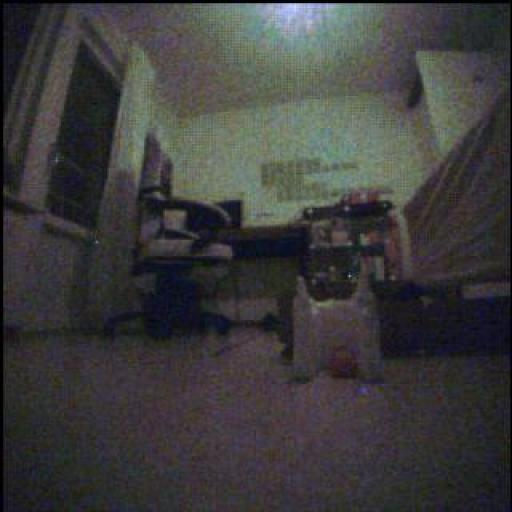basket: (329, 345, 360, 378)
